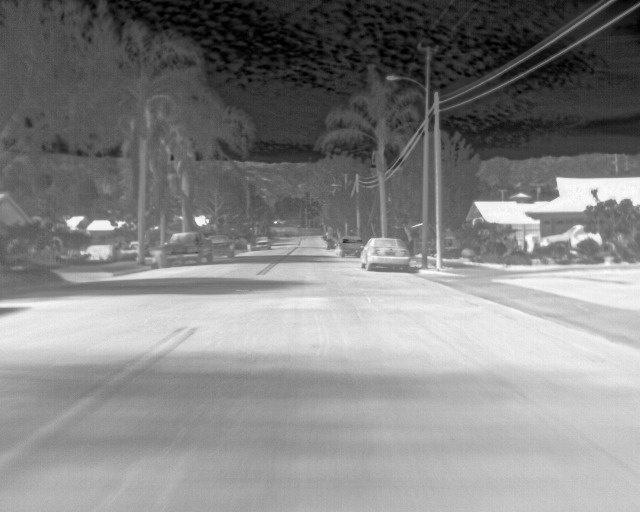vehicle: (167, 229, 214, 264), (358, 237, 408, 268)
